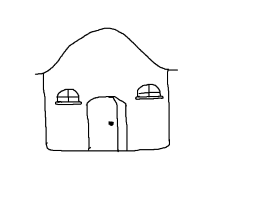closed_window: (51, 82, 85, 109), (132, 80, 164, 102)
door: (82, 89, 132, 153)
single_line_roof: (26, 20, 186, 84)
wall: (40, 68, 172, 152)
